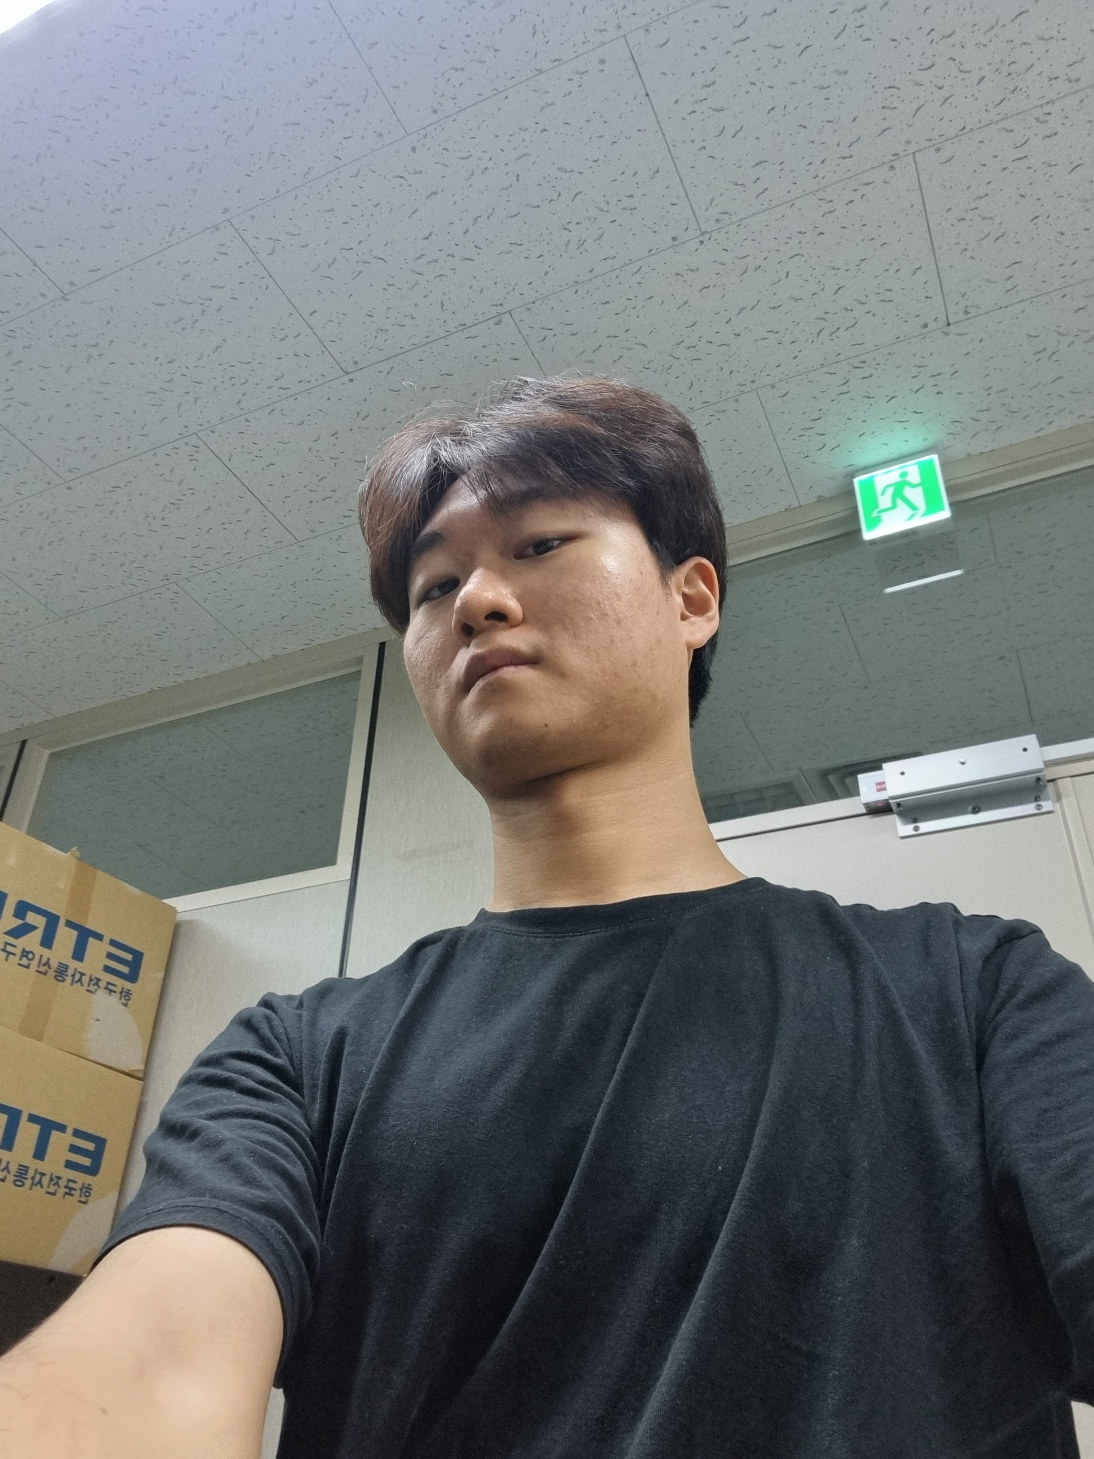Non-Helmet: (316, 337, 791, 815)
